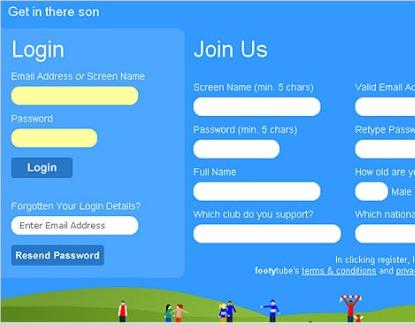button: (9, 243, 106, 267), (9, 156, 76, 180)
field: (190, 222, 344, 247), (9, 84, 148, 109), (9, 214, 146, 237), (191, 180, 323, 203), (193, 96, 324, 119), (10, 126, 98, 150), (190, 138, 281, 160), (354, 179, 389, 202)
field_with_label: (7, 70, 155, 112), (188, 210, 347, 249), (7, 201, 151, 239), (192, 82, 328, 121), (189, 167, 325, 204), (188, 125, 297, 162), (8, 112, 100, 153)
